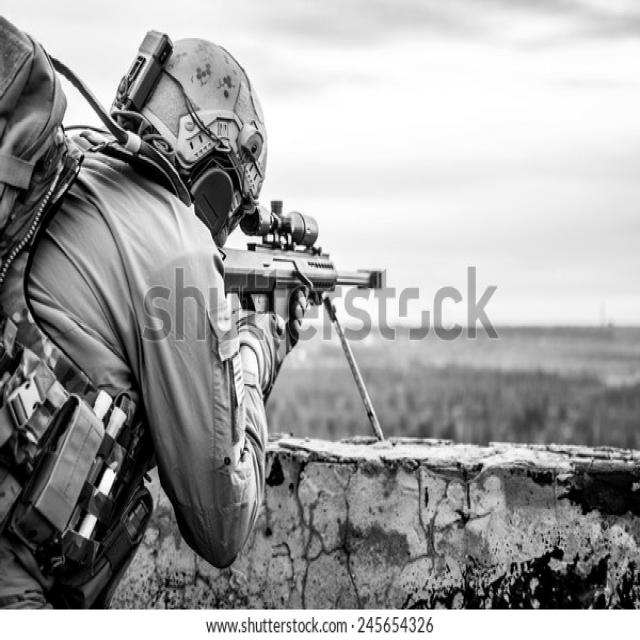Sniper: (214, 193, 390, 454)
